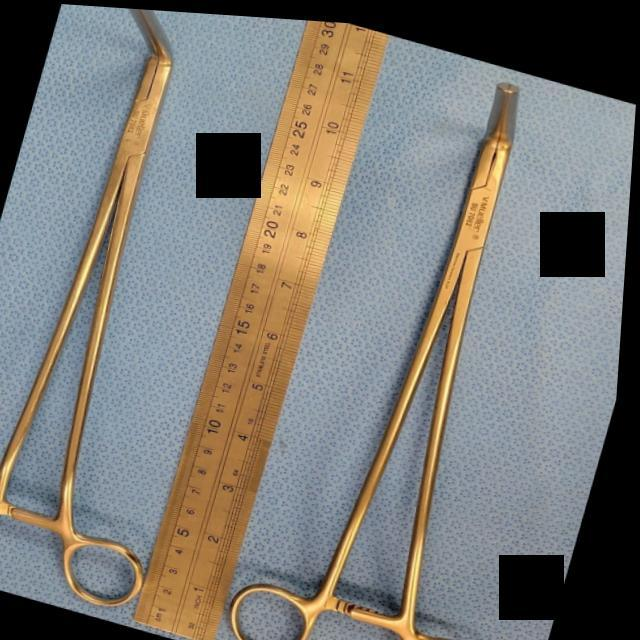Rectangle Cholecystectomy Forceps: (213, 26, 640, 640)
Right Angle Colon Clamp: (0, 0, 292, 621)
